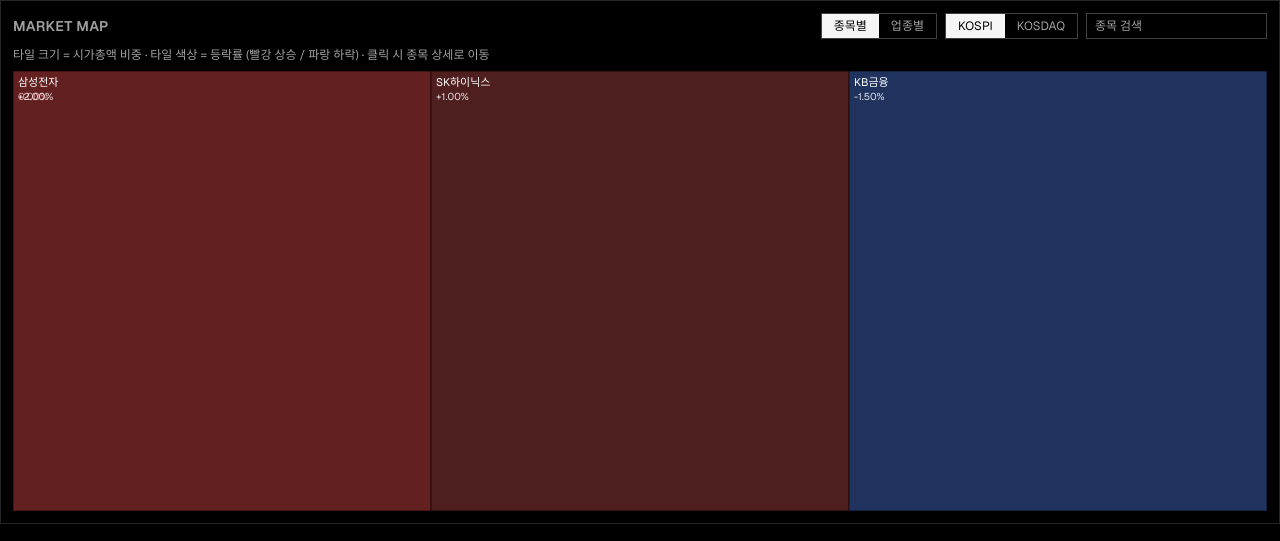
Test: MarketMap › shows an empty-state message when the search matches nothing
Type "존재하지않는종목" into the field with placeholder "종목 검색".
click(1176, 26); type("존재하지않는종목")  # box [1086,13,1267,39]
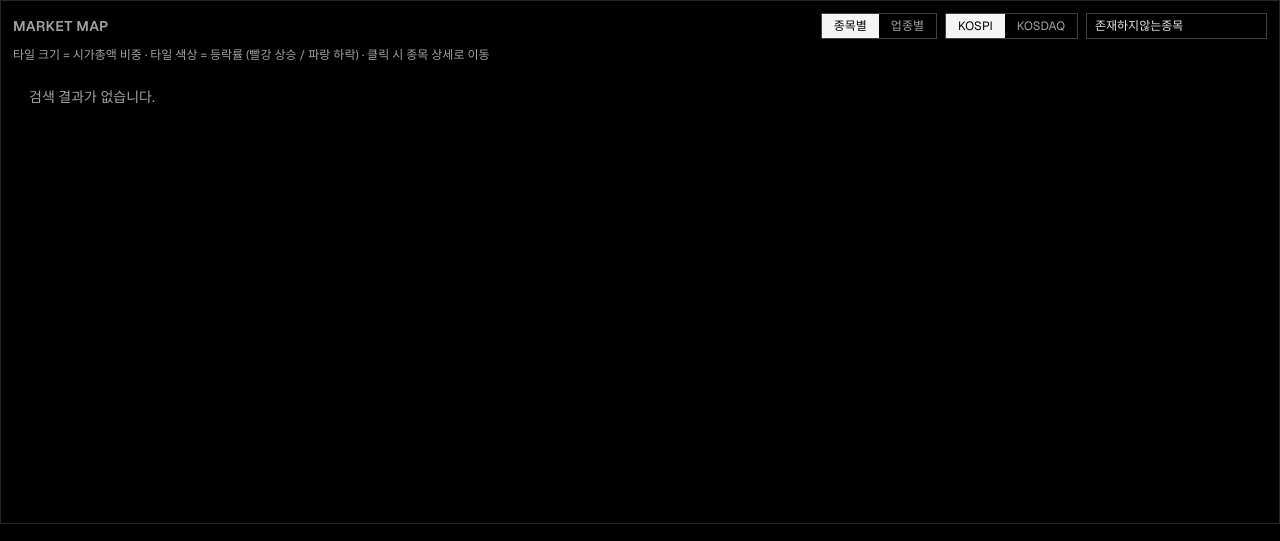
Result: the text "검색 결과가 없습니다." is shown at [29,88,155,106]
